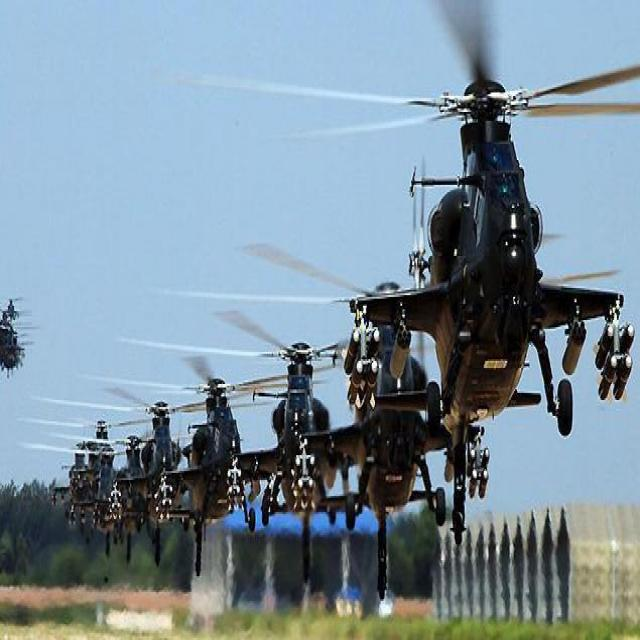MIL_HELO: (208, 0, 640, 558), (220, 223, 480, 604), (172, 295, 372, 541), (154, 353, 249, 557)
